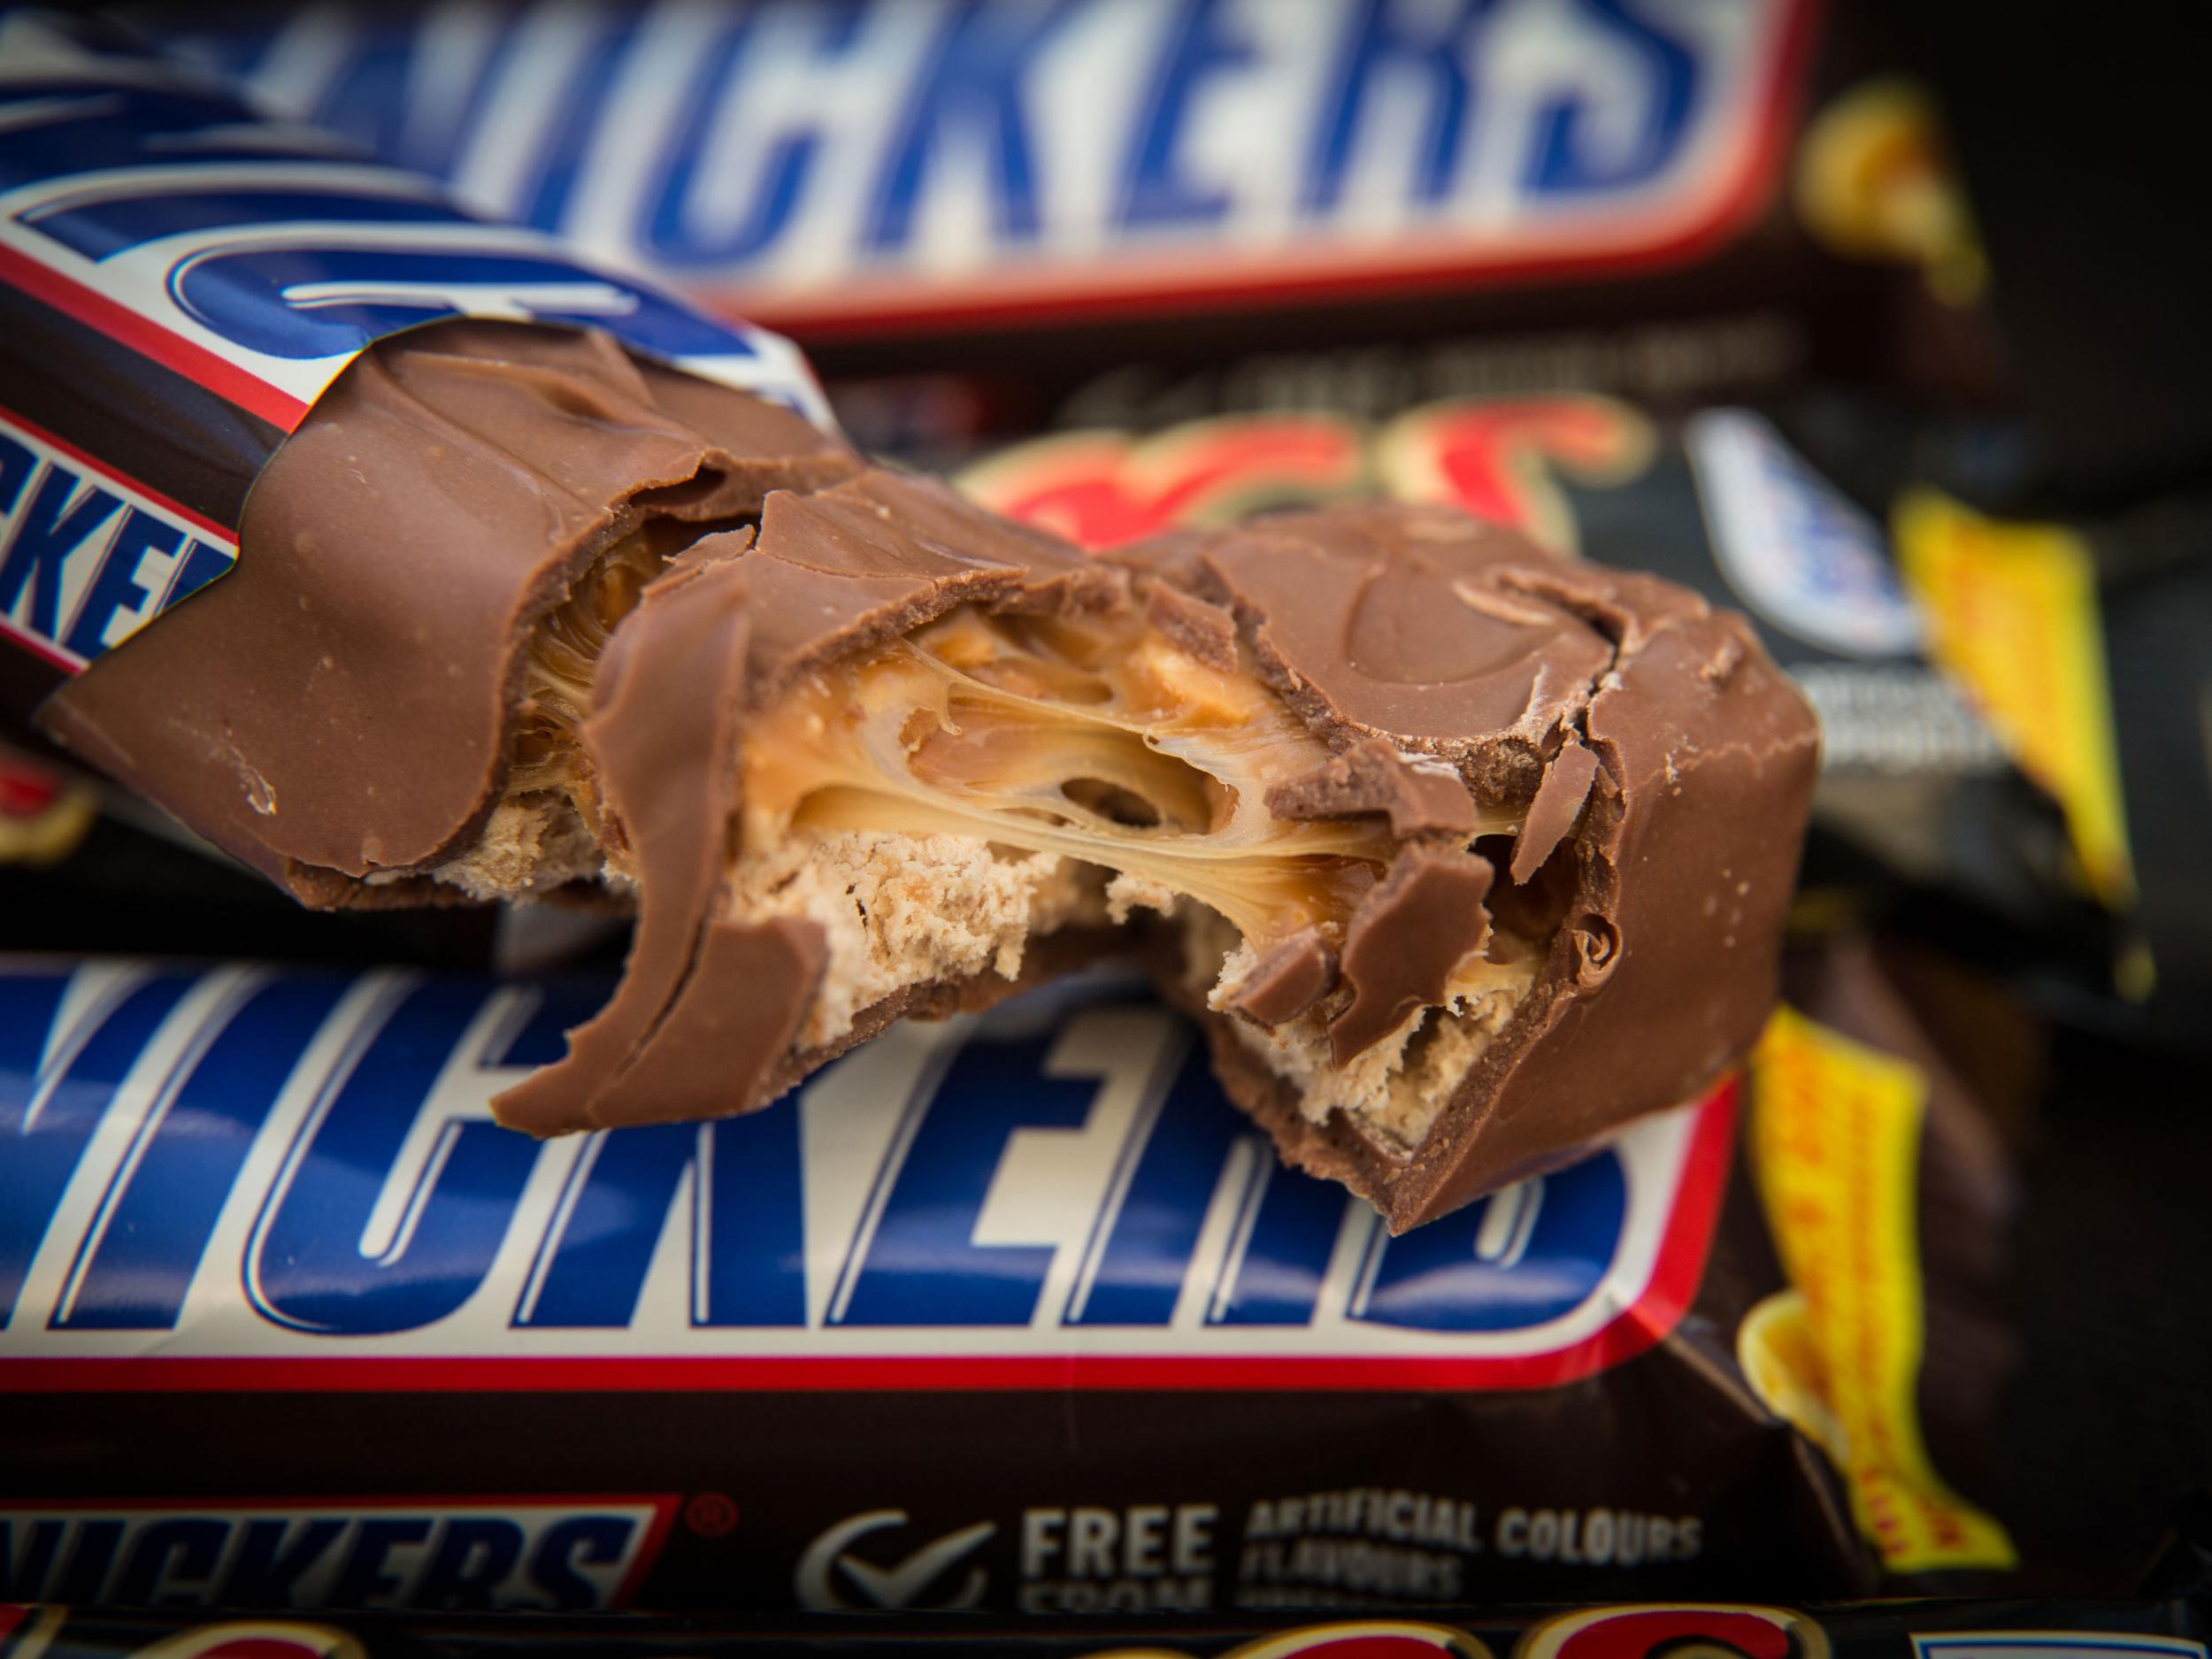snickers: (2, 958, 1623, 1321), (188, 0, 1702, 265), (188, 0, 1702, 204), (0, 422, 308, 694), (0, 422, 237, 694), (0, 1513, 651, 1607), (0, 422, 237, 669), (0, 436, 237, 669)
